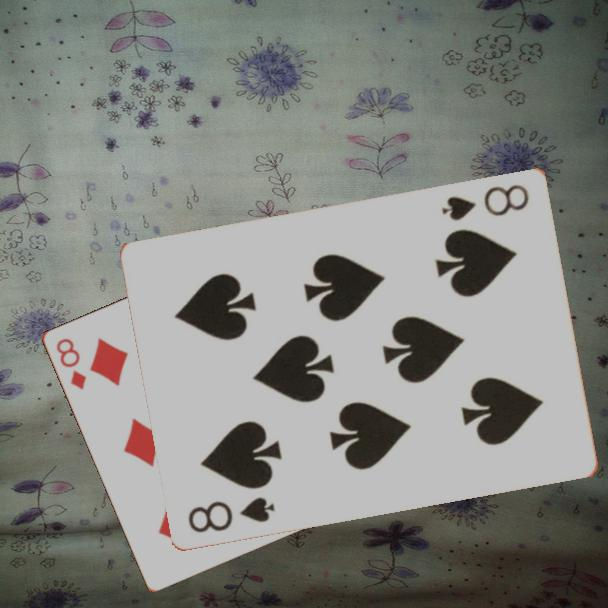d08: (52, 335, 89, 393)
s08: (438, 180, 533, 223), (184, 493, 278, 535)
